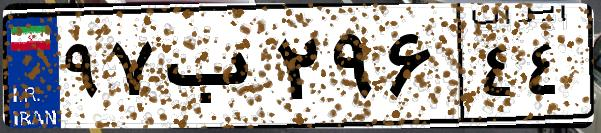2: (270, 28, 330, 110)
4: (475, 38, 525, 113), (525, 38, 570, 115)
6: (385, 28, 445, 110)
7: (110, 28, 158, 98)
9: (330, 28, 385, 110), (57, 26, 110, 100)
ب: (158, 20, 270, 120)
